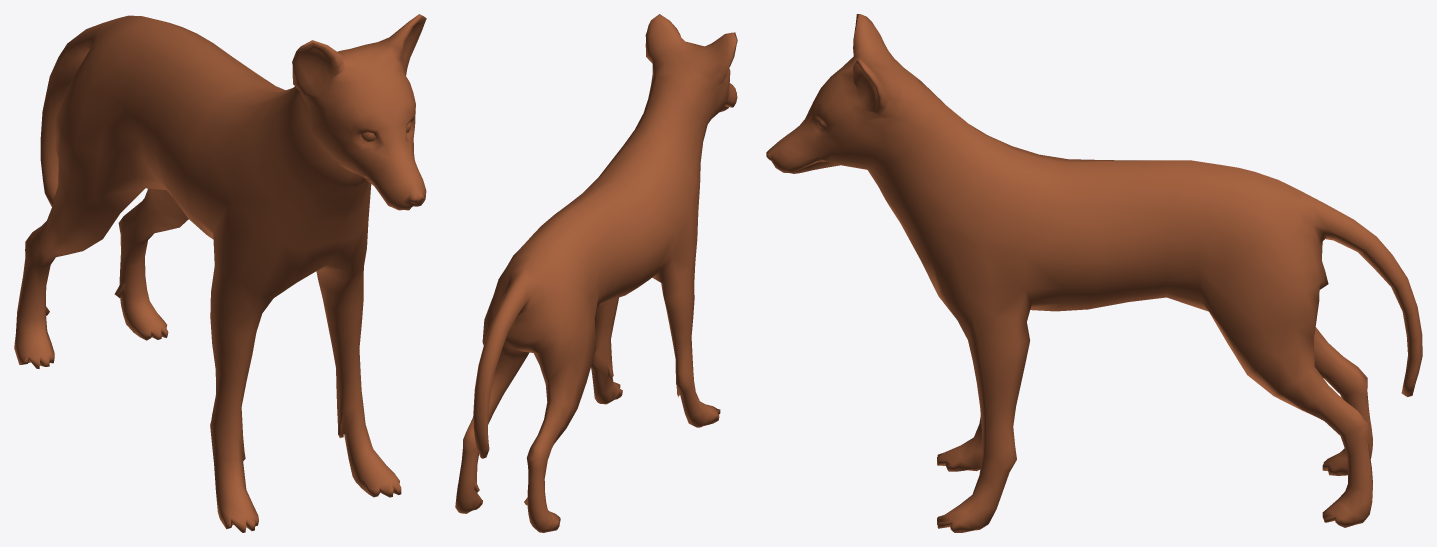
File: Fox.fbx
The picture shows the model from 3 angles, left to right: view 1: azimuth 30°, elevation 25°; view 2: azimuth 150°, elevation 25°; view 3: azimuth 270°, elevation 25°; orthographic projection. The views are drawn at different scales.
Visible parts, largest first — view 1: Fox; view 2: Fox; view 3: Fox.
Part boxes in pixels (x1,y1,x2,y2): Fox: [14, 14, 426, 532]; Fox: [455, 14, 737, 532]; Fox: [766, 14, 1422, 532].
Bounding box in the file's own units: 16.53 × 47.48 × 61.17.
